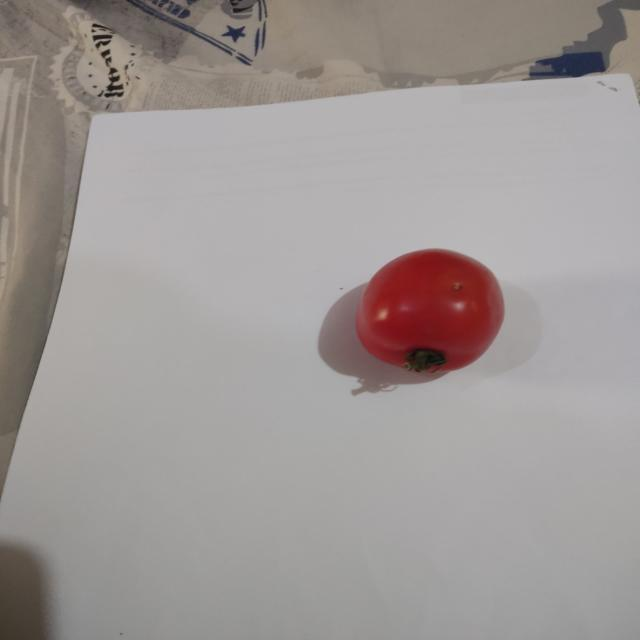kirmizi: (326, 224, 526, 422)
